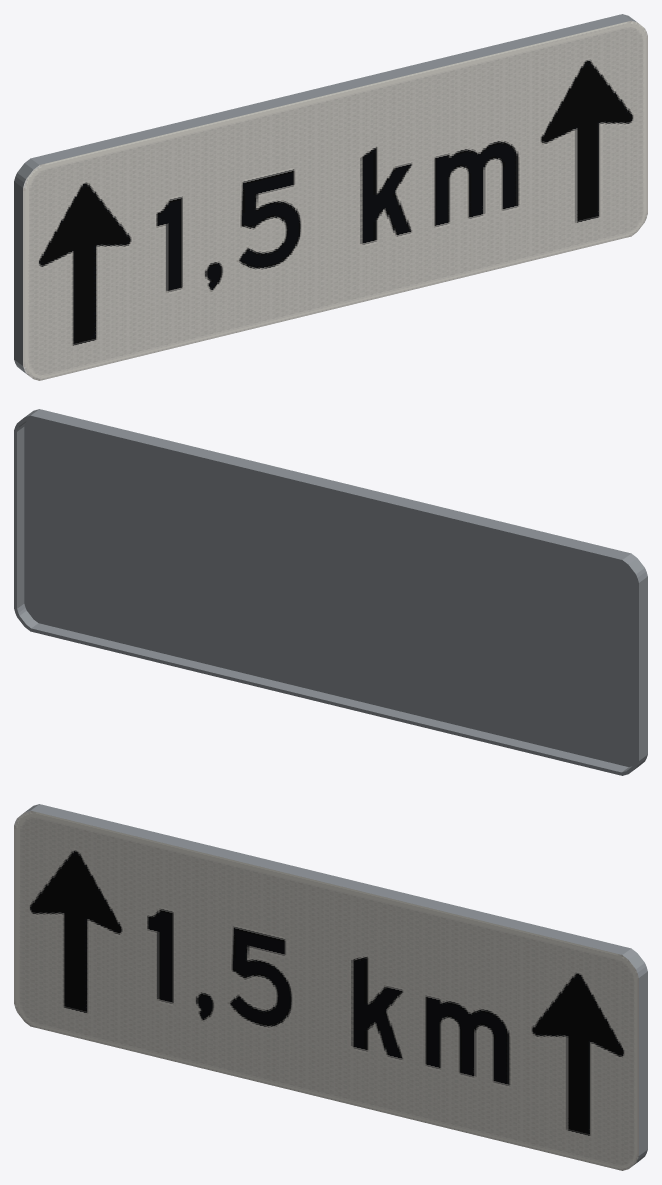
3 renders of one model, top to bottom at view 1: azimuth 30°, elevation 25°; view 2: azimuth 150°, elevation 25°; view 3: azimuth 330°, elevation 25°, orthographic.
Visible parts, largest first — view 1: cat_4584b5a10dd5adba; view 2: cat_4584b5a10dd5adba; view 3: cat_4584b5a10dd5adba.
Part boxes in pixels (left/top/right/bottom): cat_4584b5a10dd5adba: left=14, top=14, right=647, bottom=380; cat_4584b5a10dd5adba: left=14, top=409, right=647, bottom=775; cat_4584b5a10dd5adba: left=14, top=804, right=647, bottom=1170.
Bounding box in the file's own units: 0.6 × 0.015 × 0.1981.
2 materials, 1 textured.
